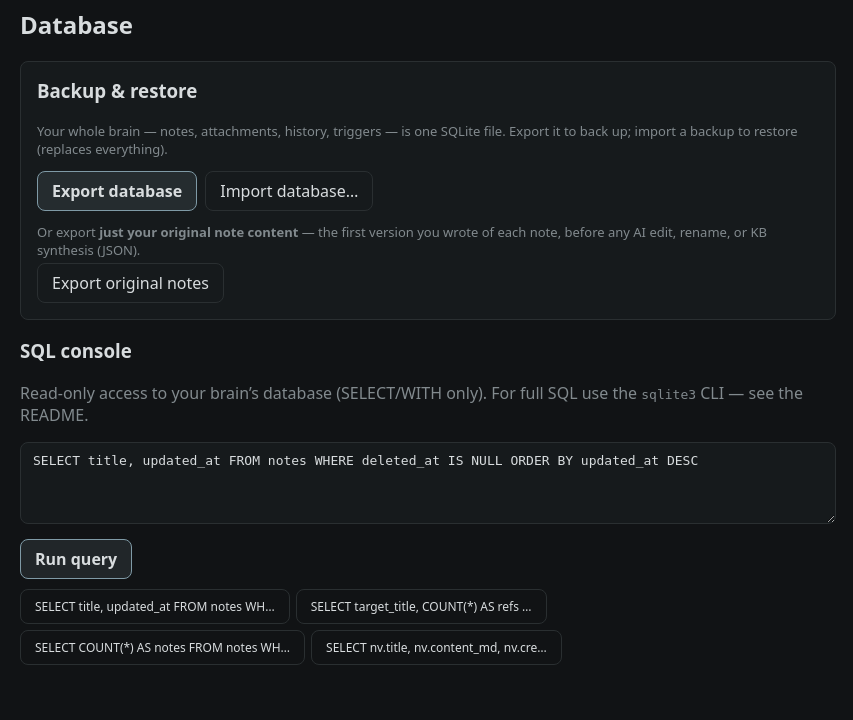
Test: SqlConsole — query console › surfaces the server error message and renders no table
The image size is (853, 720).
Click the button "Run query": (76, 559) [20, 539, 132, 579]
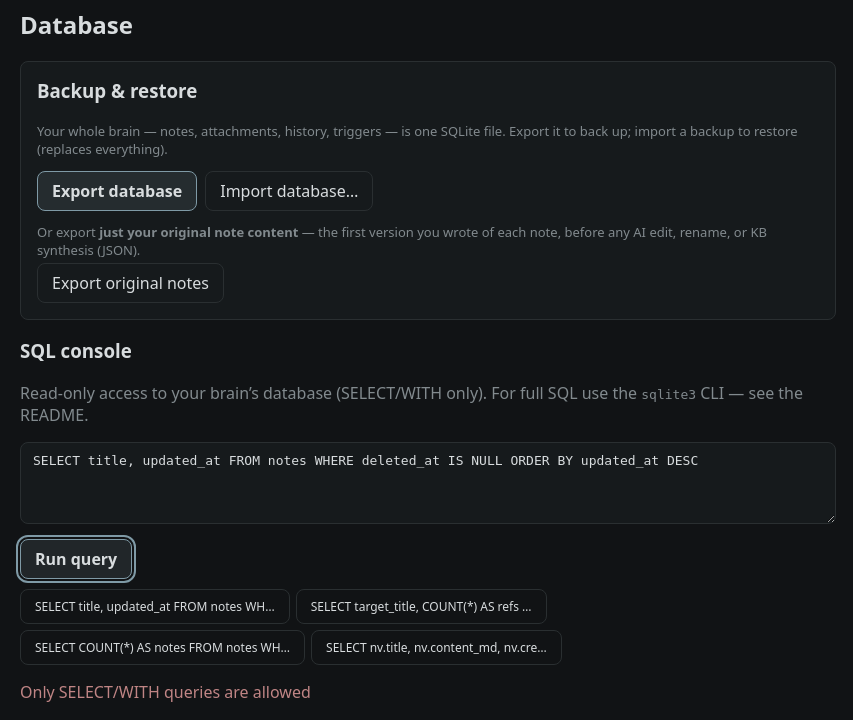
Now the text "Only SELECT/WITH queries are allowed" is shown, box [20, 681, 311, 703]
